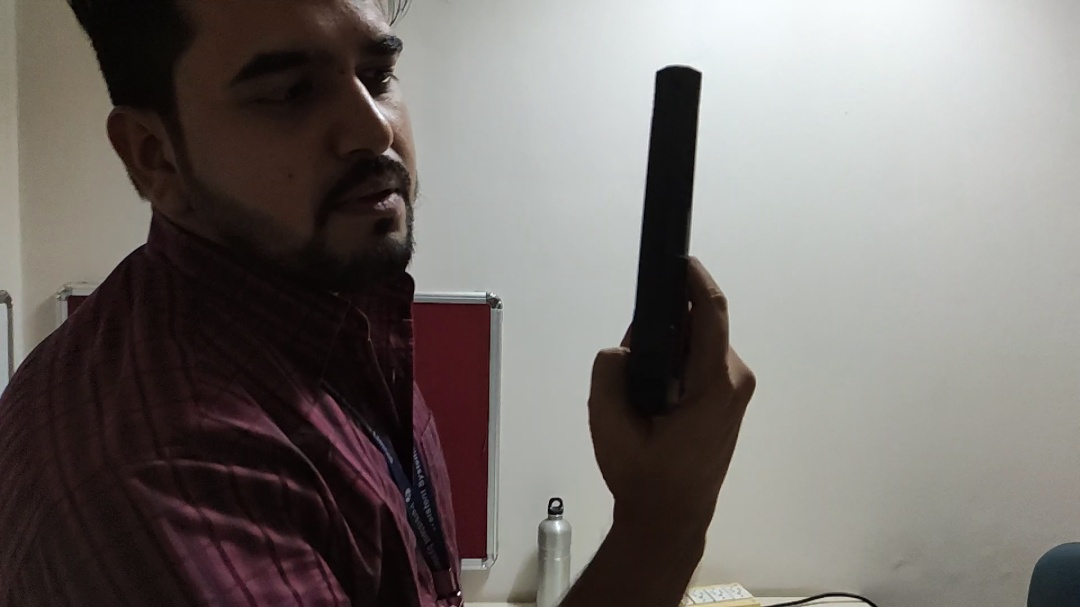gun: (617, 53, 733, 438)
